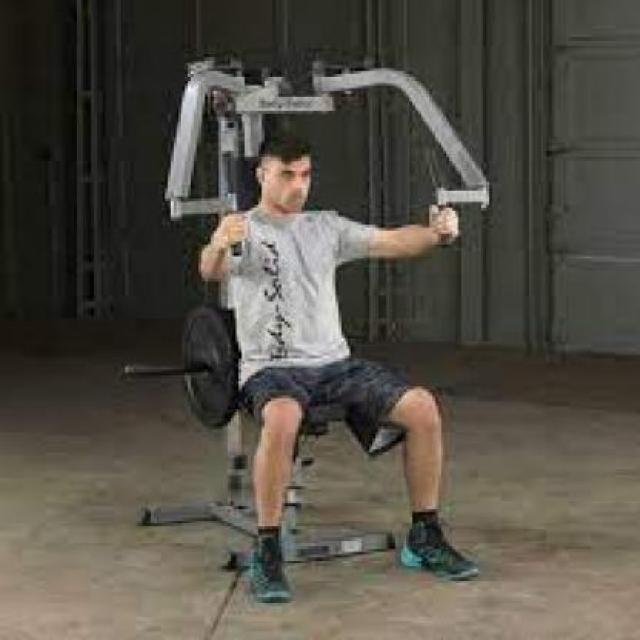chest fly machine: (110, 40, 498, 611)
